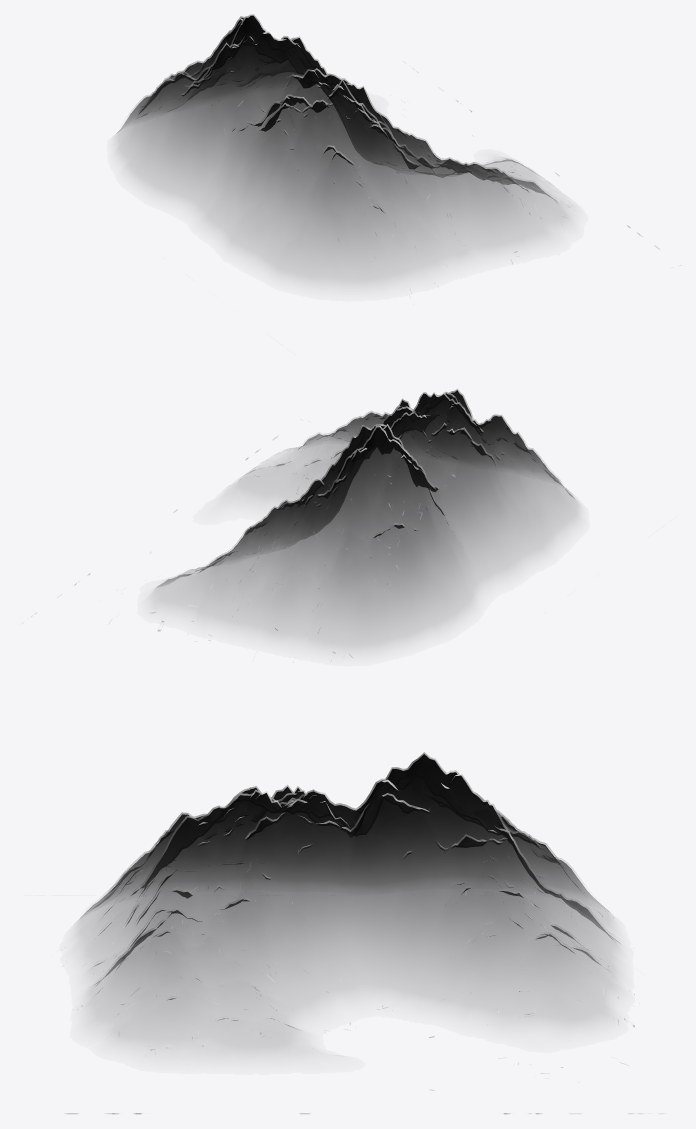
The model's file is mountains.glb.
3 renders of one model, top to bottom at view 1: azimuth 30°, elevation 25°; view 2: azimuth 150°, elevation 25°; view 3: azimuth 270°, elevation 25°, orthographic. The views are drawn at different scales.
Parts seen in each view (by area): view 1: Landscape.0.bake; view 2: Landscape.0.bake; view 3: Landscape.0.bake.
Boxes of the visible parts, <box> form: Landscape.0.bake: <box>117,14,658,281</box>; Landscape.0.bake: <box>75,388,577,657</box>; Landscape.0.bake: <box>67,752,634,1113</box>.
Size of the model in its own units: 6.93 by 3.23 by 9.
2 materials, 2 textured.
